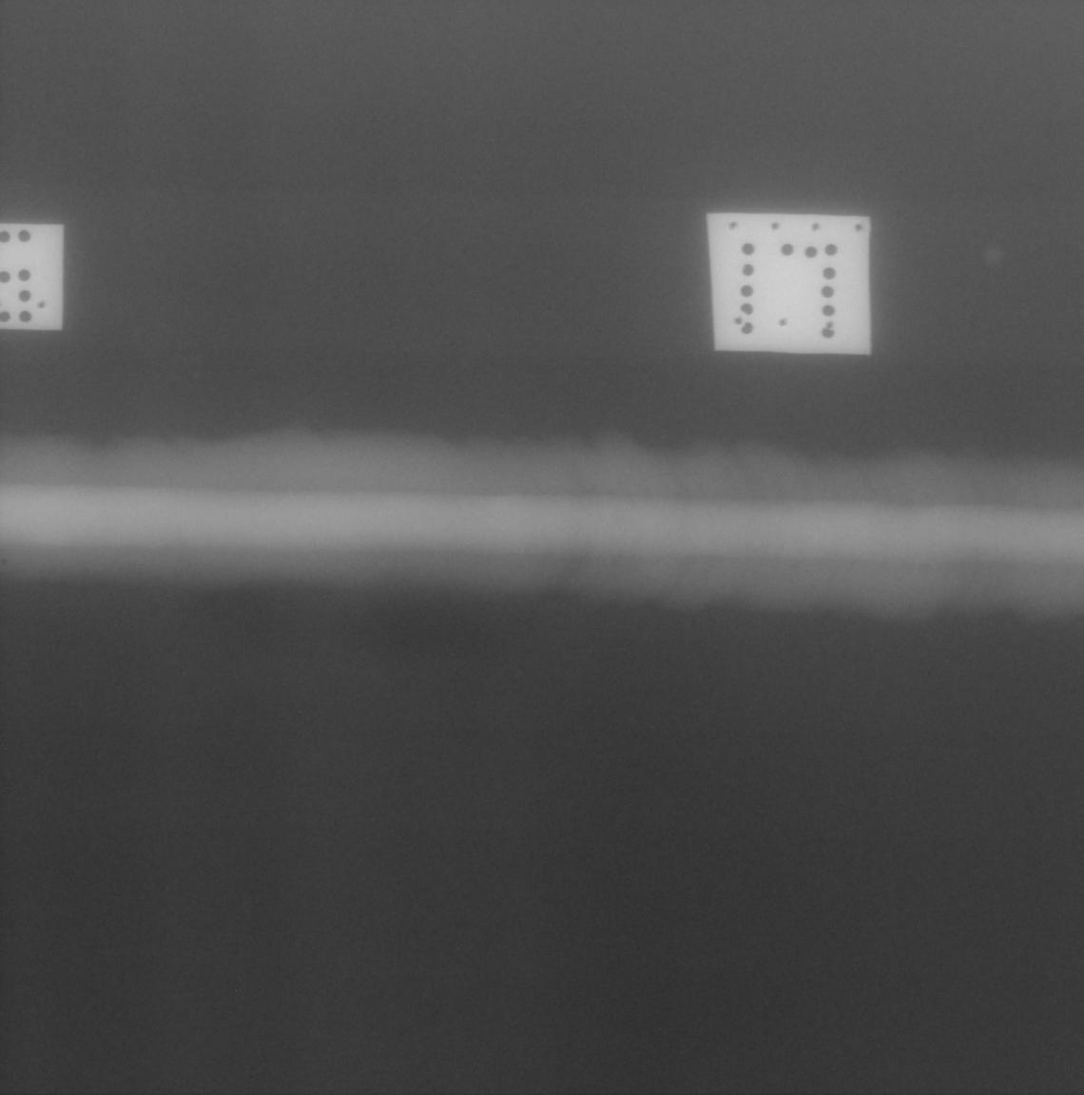Pore/Porosity: (3, 560, 6, 564)
